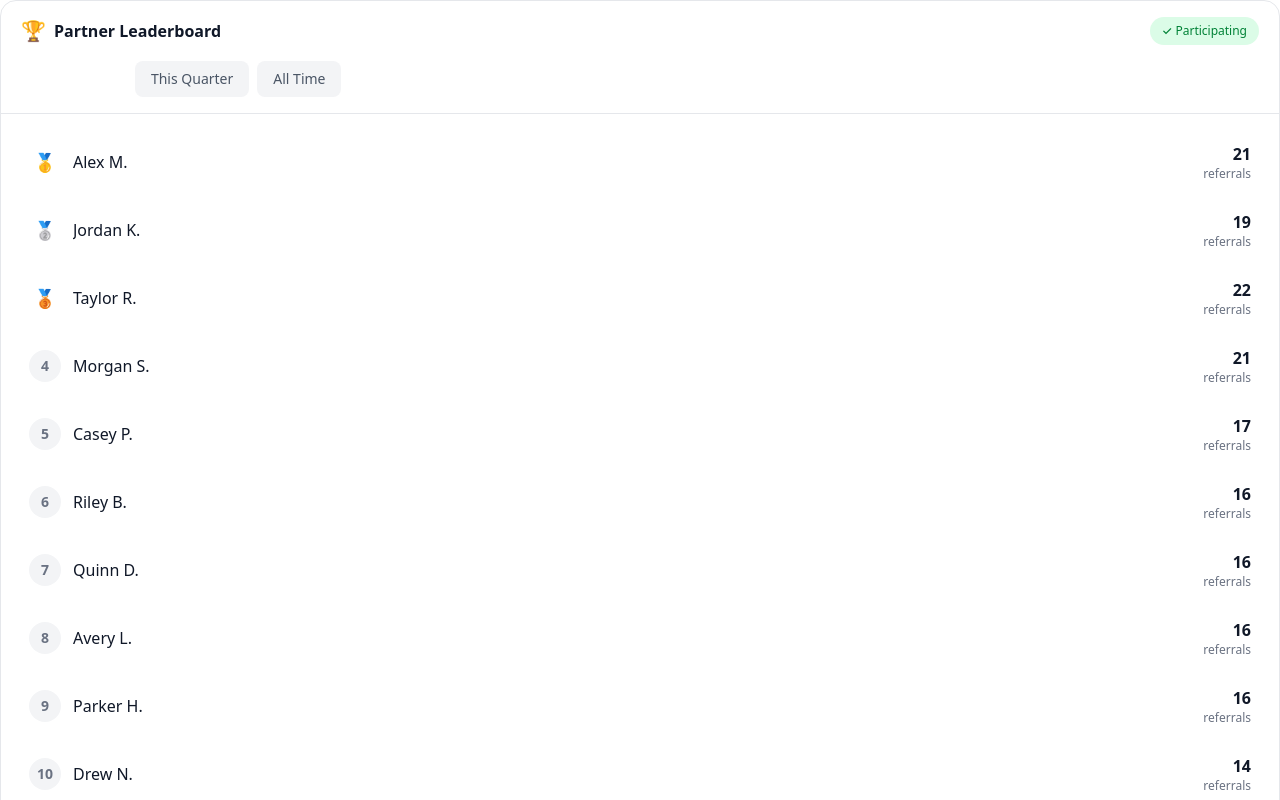
Test case: Leaderboard Component › should toggle opt-in status
The image size is (1280, 800).
Click the button "✓ Participating": (1204, 31) [1150,17,1259,45]
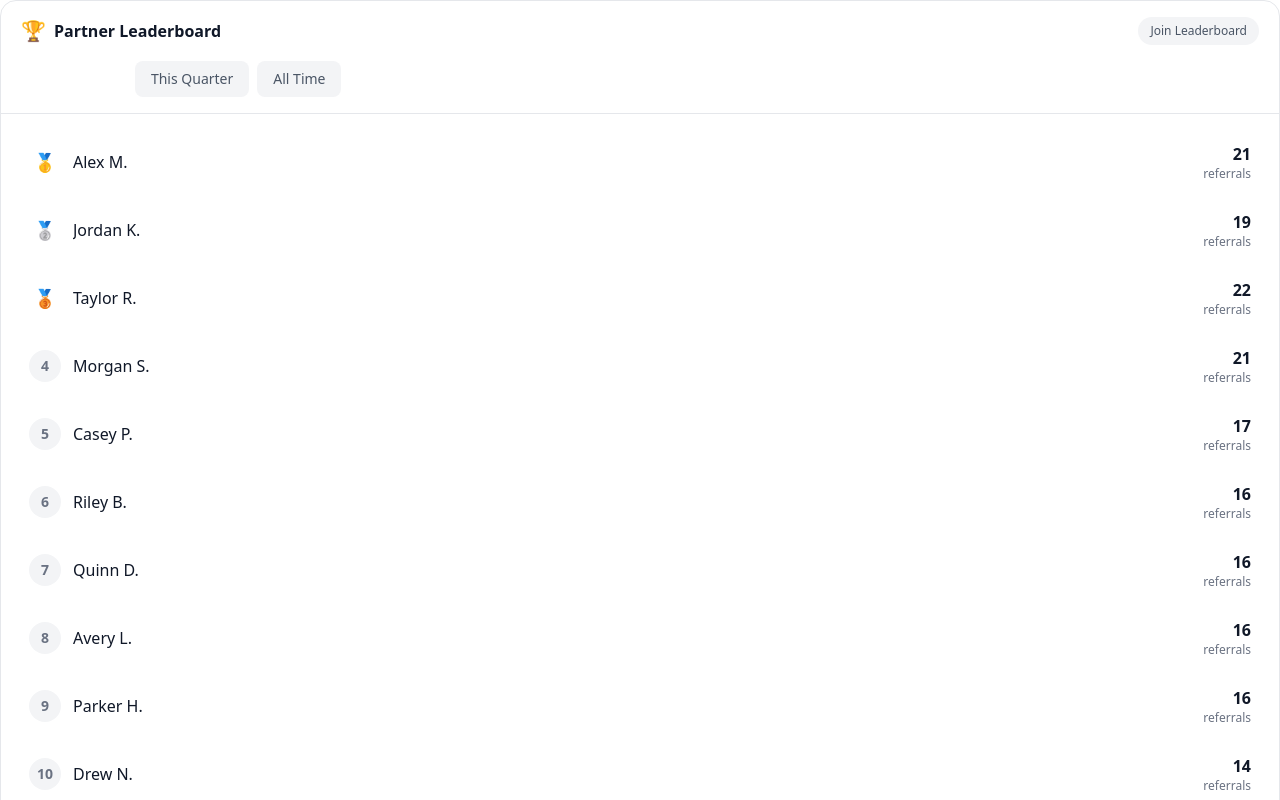
Check: the button "Join Leaderboard" is shown, box [1138,17,1259,45]
